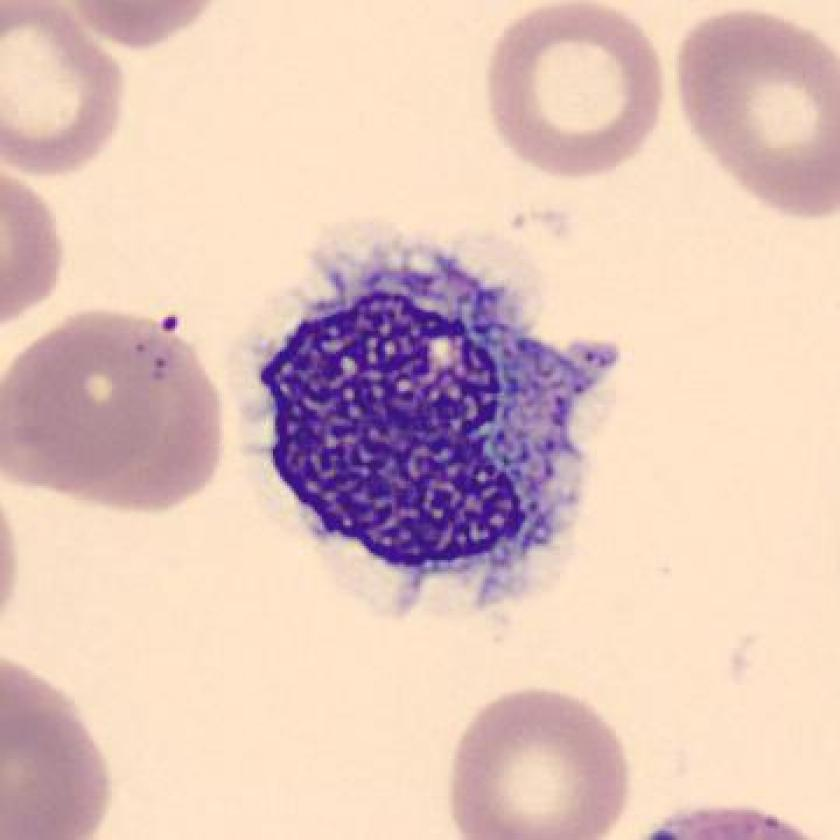monocyte: (225, 207, 645, 637)
